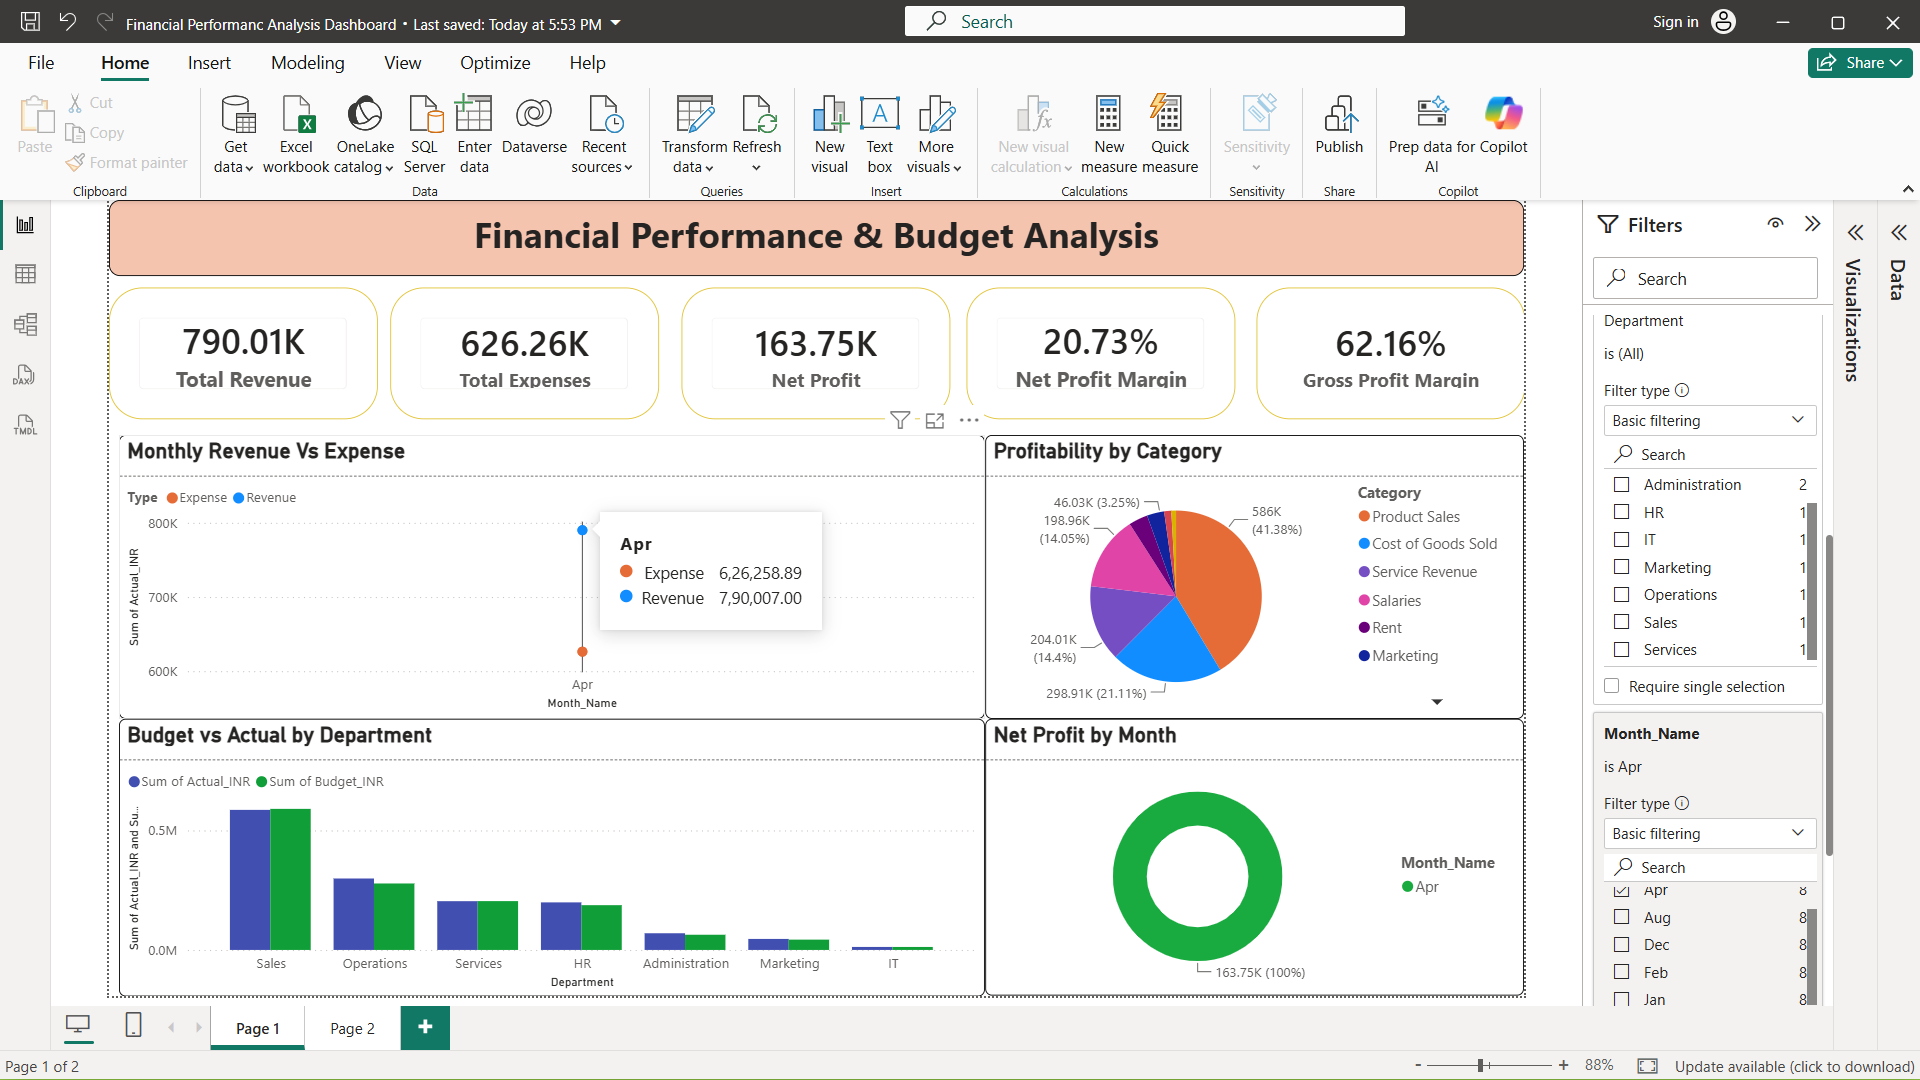

The dashboard page shown, as its layout file describes it:
{"tool":"powerbi","page":{"name":"Page 1","canvas":[1280,720],"ordinal":0},"visuals":[{"type":"cardVisual","fields":{"Data":["Financial_Data.Total Revenue"]},"box":[0,79.6,242.9,119.4],"z":0},{"type":"cardVisual","fields":{"Data":["Financial_Data.Total Expenses"]},"box":[253.9,79.6,242.9,119.4],"z":1},{"type":"cardVisual","fields":{"Data":["Financial_Data.Net Profit"]},"box":[517.3,79.6,242.9,119.4],"z":2},{"type":"cardVisual","fields":{"Data":["Financial_Data.Gross Profit Margin"]},"box":[1037.4,79.6,242.9,119.4],"z":3},{"type":"cardVisual","fields":{"Data":["Financial_Data.Net Profit Margin"]},"box":[775.3,79.6,242.9,119.4],"z":5},{"type":"lineChart","title":"Monthly Revenue Vs Expense","fields":{"Y":["Sum(Financial_Data.Actual_INR)"],"Series":["Financial_Data.Type"],"Category":["Financial_Data.Month_Name"]},"box":[9.6,212.7,783.5,256.6],"z":6},{"type":"clusteredColumnChart","title":"Budget vs Actual by Department","fields":{"Category":["Financial_Data.Department"],"Y":["Sum(Financial_Data.Actual_INR)","Sum(Financial_Data.Budget_INR)"]},"box":[9.6,469.3,783.5,251.1],"z":7},{"type":"pieChart","title":"Profitability by Category","fields":{"Category":["Financial_Data.Category"],"Y":["Sum(Financial_Data.Actual_INR)"]},"box":[793.1,212.7,487.1,256.6],"z":9},{"type":"textbox","box":[0,0,1280.3,68.6],"z":10},{"type":"donutChart","title":"Net Profit by Month","fields":{"Category":["Financial_Data.Month_Name"],"Y":["Financial_Data.Net Profit"]},"box":[793,469.8,487.2,250],"z":11}]}

Visuals, with their boxes on the page's 1280x720 design canvas (x1, y1, x2, y2). These are canvas units, not pixel positions in the 1920x1080 screenshot, which may show the page scaled, cropped or inside an application window:
cardVisual - Financial_Data.Total Revenue: x1=0 y1=80 x2=243 y2=199
cardVisual - Financial_Data.Total Expenses: x1=254 y1=80 x2=497 y2=199
cardVisual - Financial_Data.Net Profit: x1=517 y1=80 x2=760 y2=199
cardVisual - Financial_Data.Gross Profit Margin: x1=1037 y1=80 x2=1280 y2=199
cardVisual - Financial_Data.Net Profit Margin: x1=775 y1=80 x2=1018 y2=199
"Monthly Revenue Vs Expense" lineChart: x1=10 y1=213 x2=793 y2=469
"Budget vs Actual by Department" clusteredColumnChart: x1=10 y1=469 x2=793 y2=720
"Profitability by Category" pieChart: x1=793 y1=213 x2=1280 y2=469
textbox: x1=0 y1=0 x2=1280 y2=69
"Net Profit by Month" donutChart: x1=793 y1=470 x2=1280 y2=720
